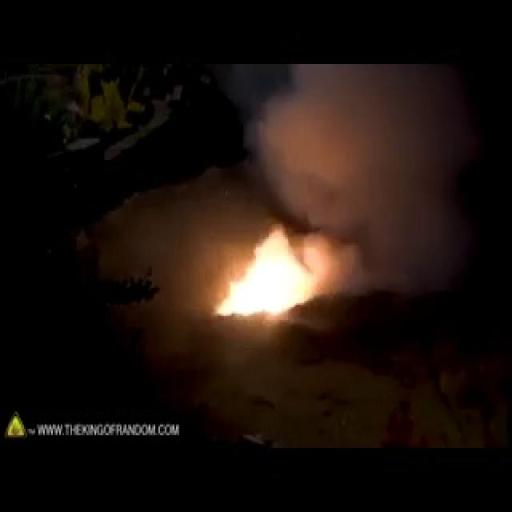smoke: (205, 205, 326, 320)
